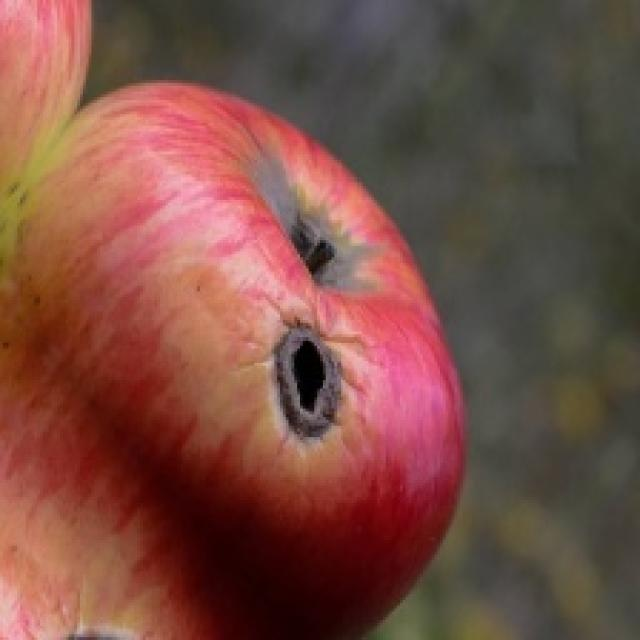rotten_apple: (42, 87, 462, 637)
